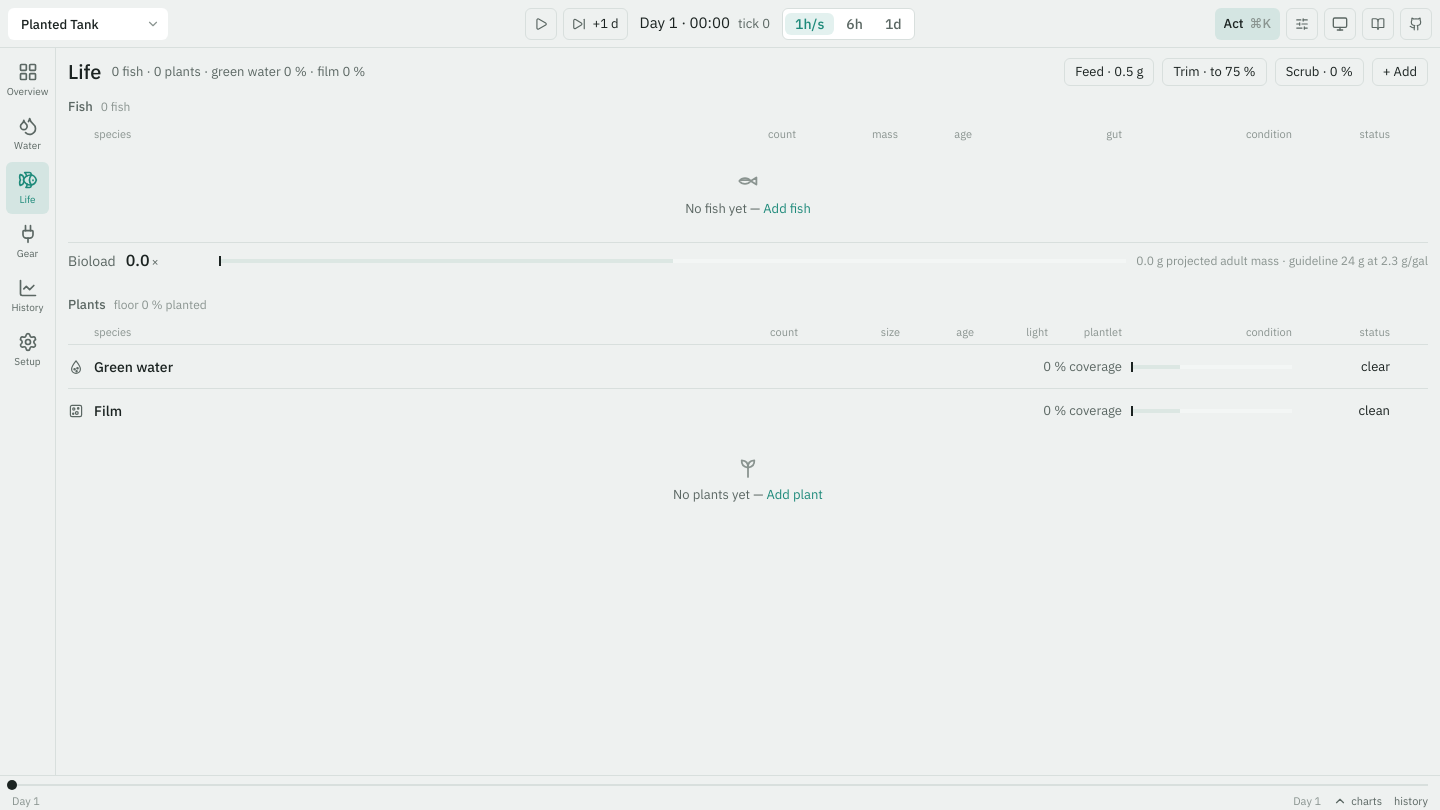
Test: a contextual verb › opens Feed from the Life module, on the amount it names
The image size is (1440, 810).
Click the button "Feed · 0.5 g".
click(1109, 72)  # box x1=1064 y1=58 x2=1154 y2=86
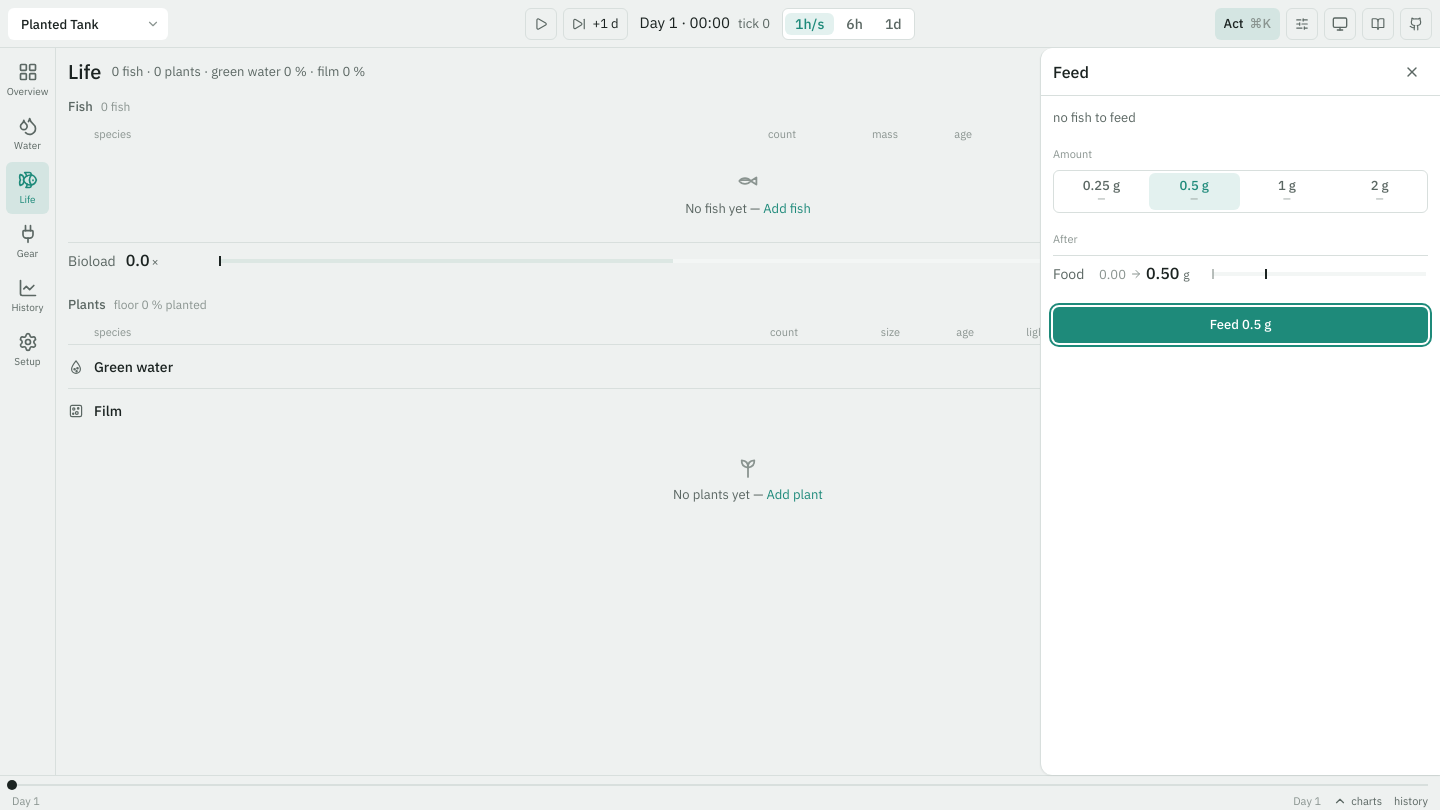
Now the button "Feed 0.5 g" is shown, box x1=1053 y1=307 x2=1428 y2=343
